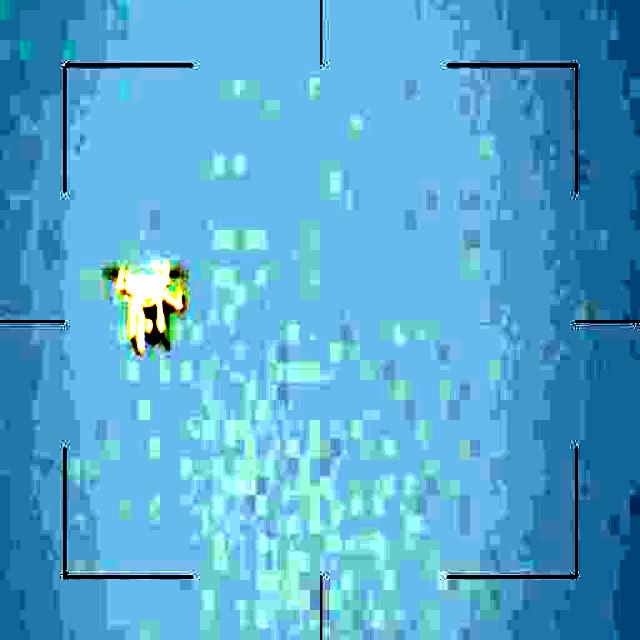bird: (105, 262, 194, 356)
